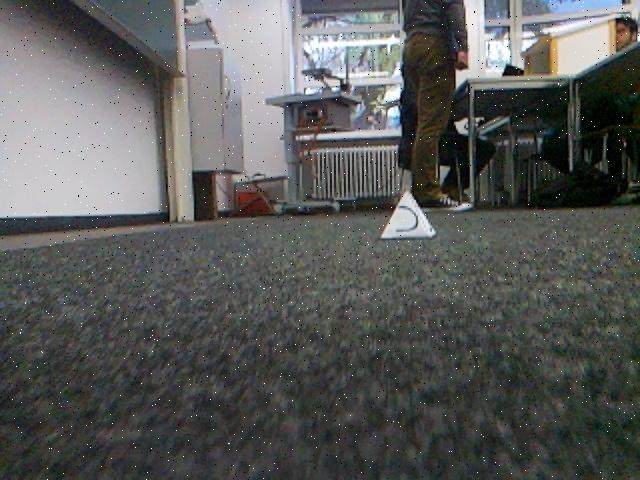C: (381, 192, 435, 242)
